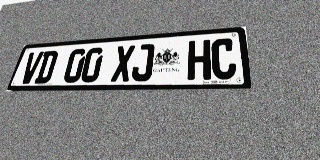0: (79, 47, 104, 83), (62, 48, 87, 83)
C: (211, 38, 237, 80)
D: (34, 50, 59, 84)
H: (187, 40, 211, 80)
J: (131, 43, 155, 81)
V: (19, 51, 44, 84)
X: (110, 45, 135, 82)
